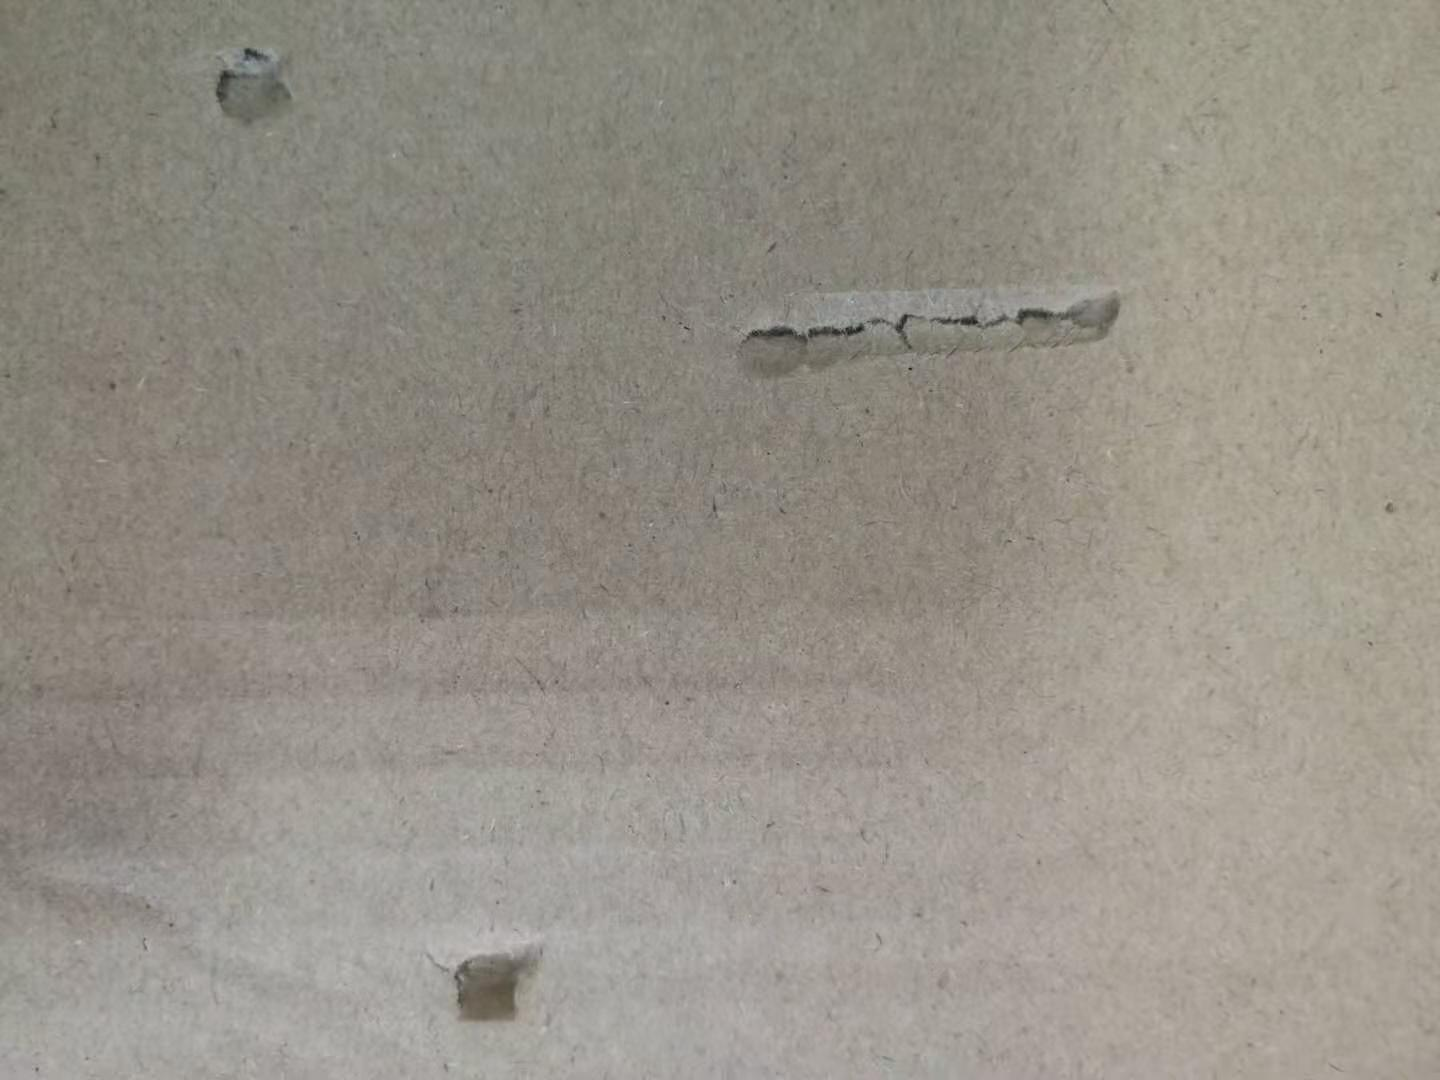defect: (8, 839, 342, 1057), (709, 250, 1147, 411), (414, 923, 570, 1046), (190, 18, 329, 149)
